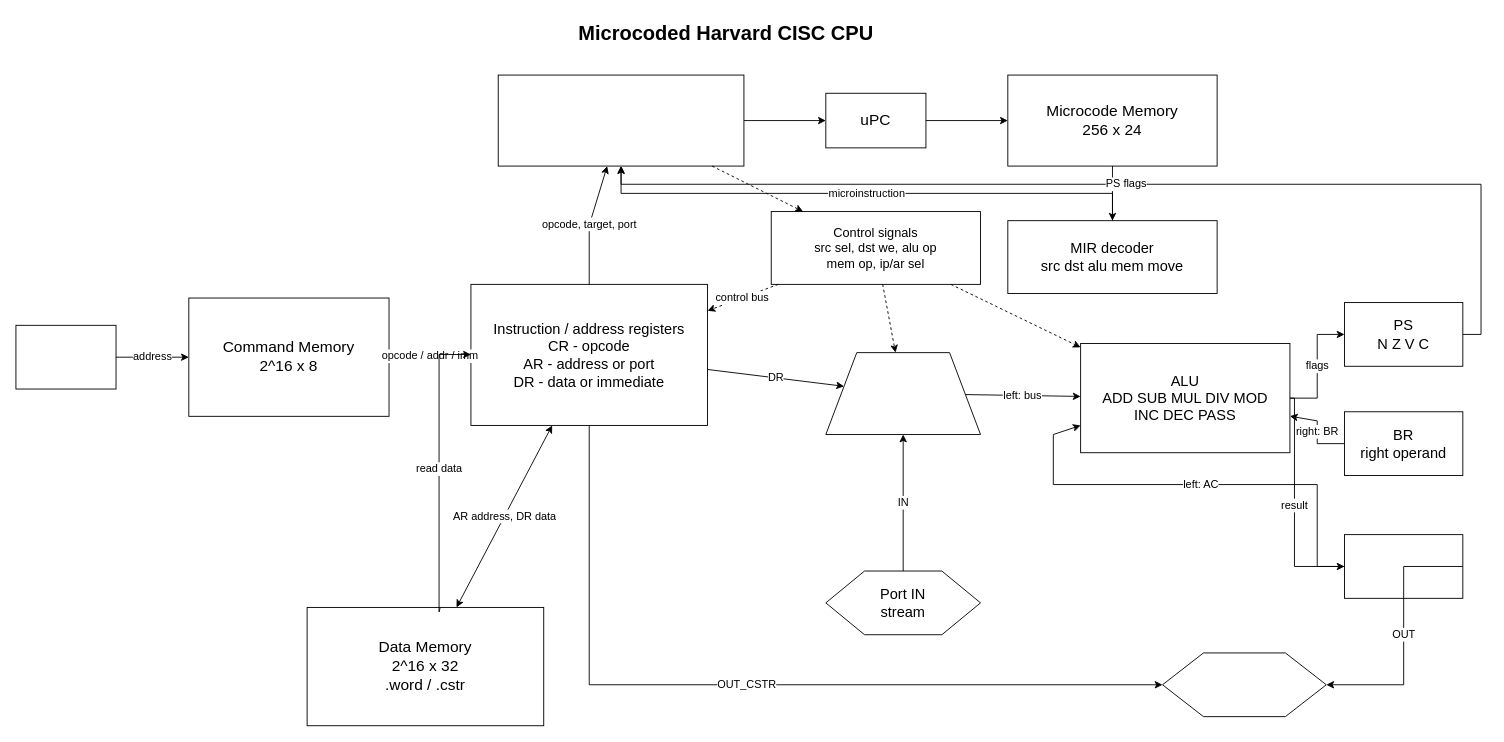
Some shapes in this 1504 by 742 pixel diagram are drawn without their labels. Here are the shapes that lost their labels. From the top down, the centre of each, then its label:
[620,120]: Control Unit dispatch, branches, port I/O superscalar issue: LD+MUL / LD+CMP
[65,356]: IP
[903,393]: SRC MUX DR / IN / AC
[1403,566]: AC accumulator
[1244,684]: Ports OUT stream
